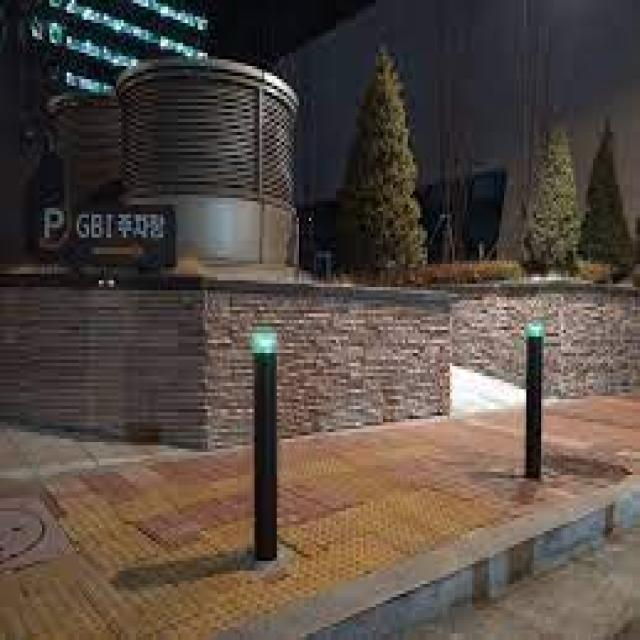bollard: (250, 324, 288, 570), (522, 316, 551, 486)
